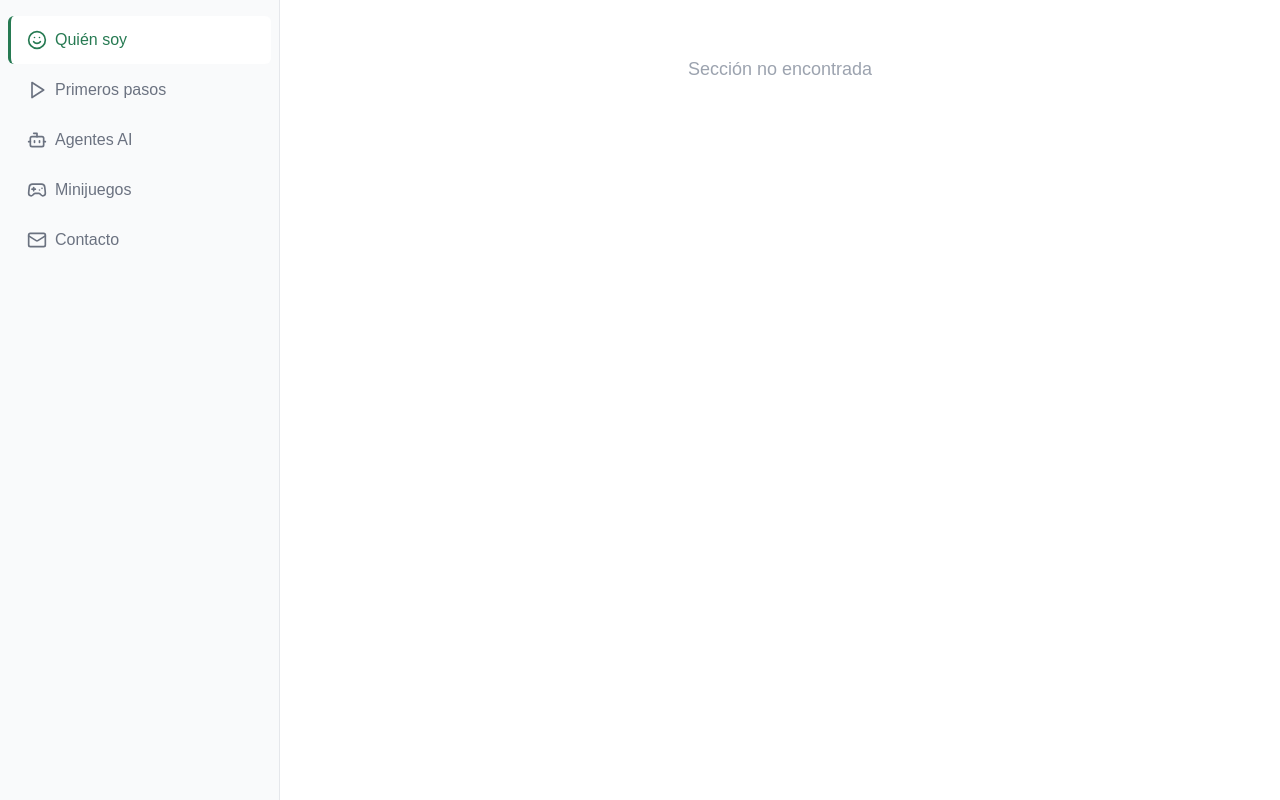
Test: Layout de documentación y navegación lateral (SPRINT-031) › positivo: la seccion Contacto se muestra dentro del layout de documentacion
Click the link "Contacto" at (73, 240), box [27,230,119,250]
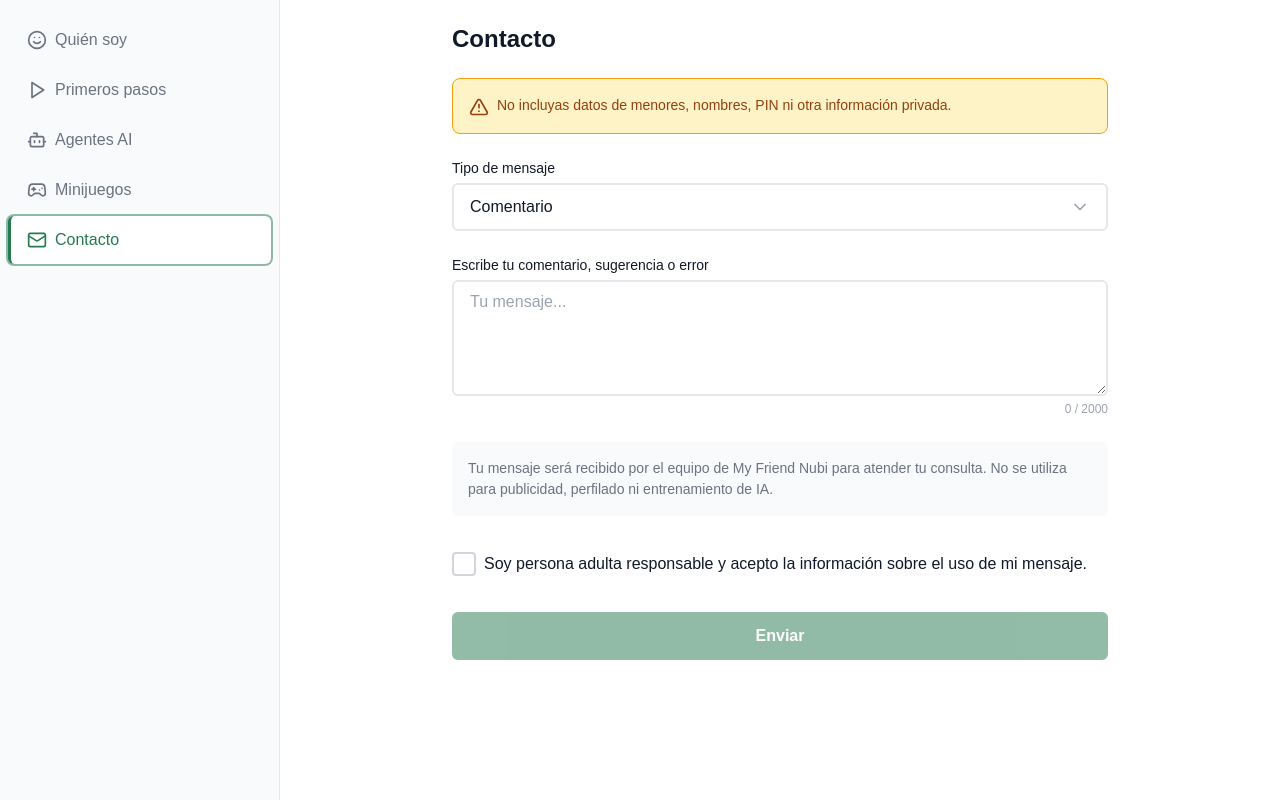
Expected: the link with class "documentation-sidebar__link--active" reads "Contacto", [8,216,271,264]
Result: the element with class "contact-view" is shown at [420,0,1140,684]
Result: the heading with class "contact-view__title" reads "Contacto" at [452,25,556,52]
